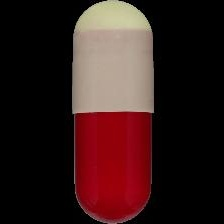55154-5092: (0, 0, 224, 224)
